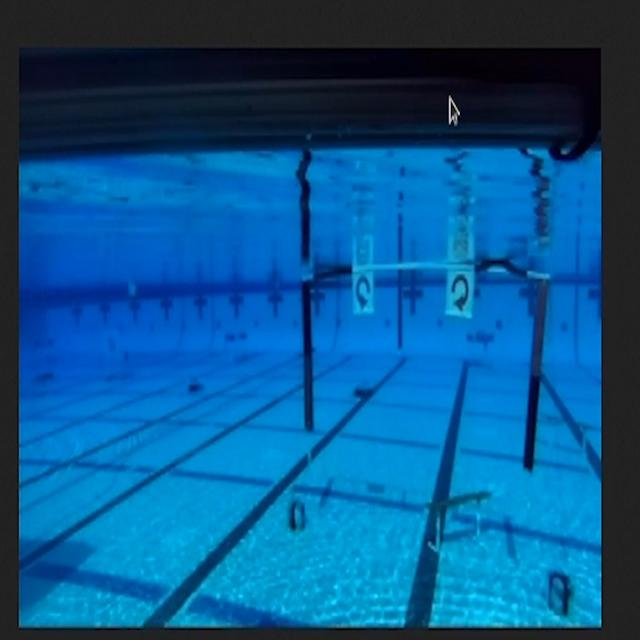Gate: (298, 258, 555, 474)
